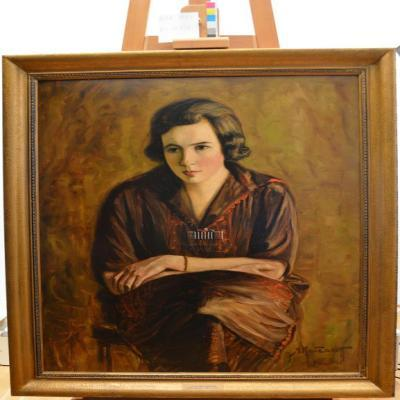painting: (3, 48, 400, 400)
